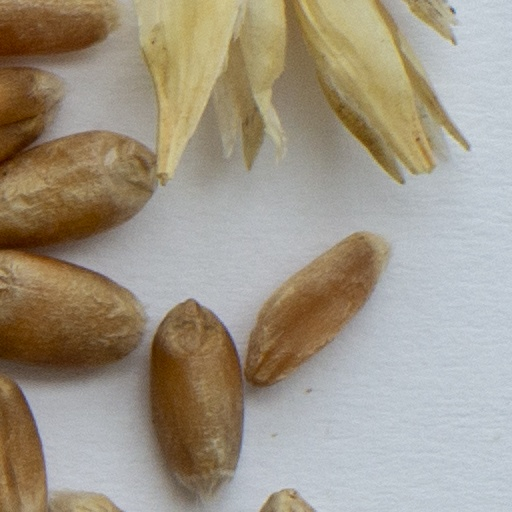Peel-poly: (134, 0, 476, 192)
